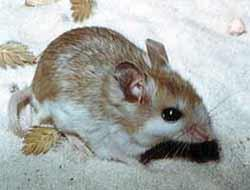rat: (7, 26, 213, 164)
